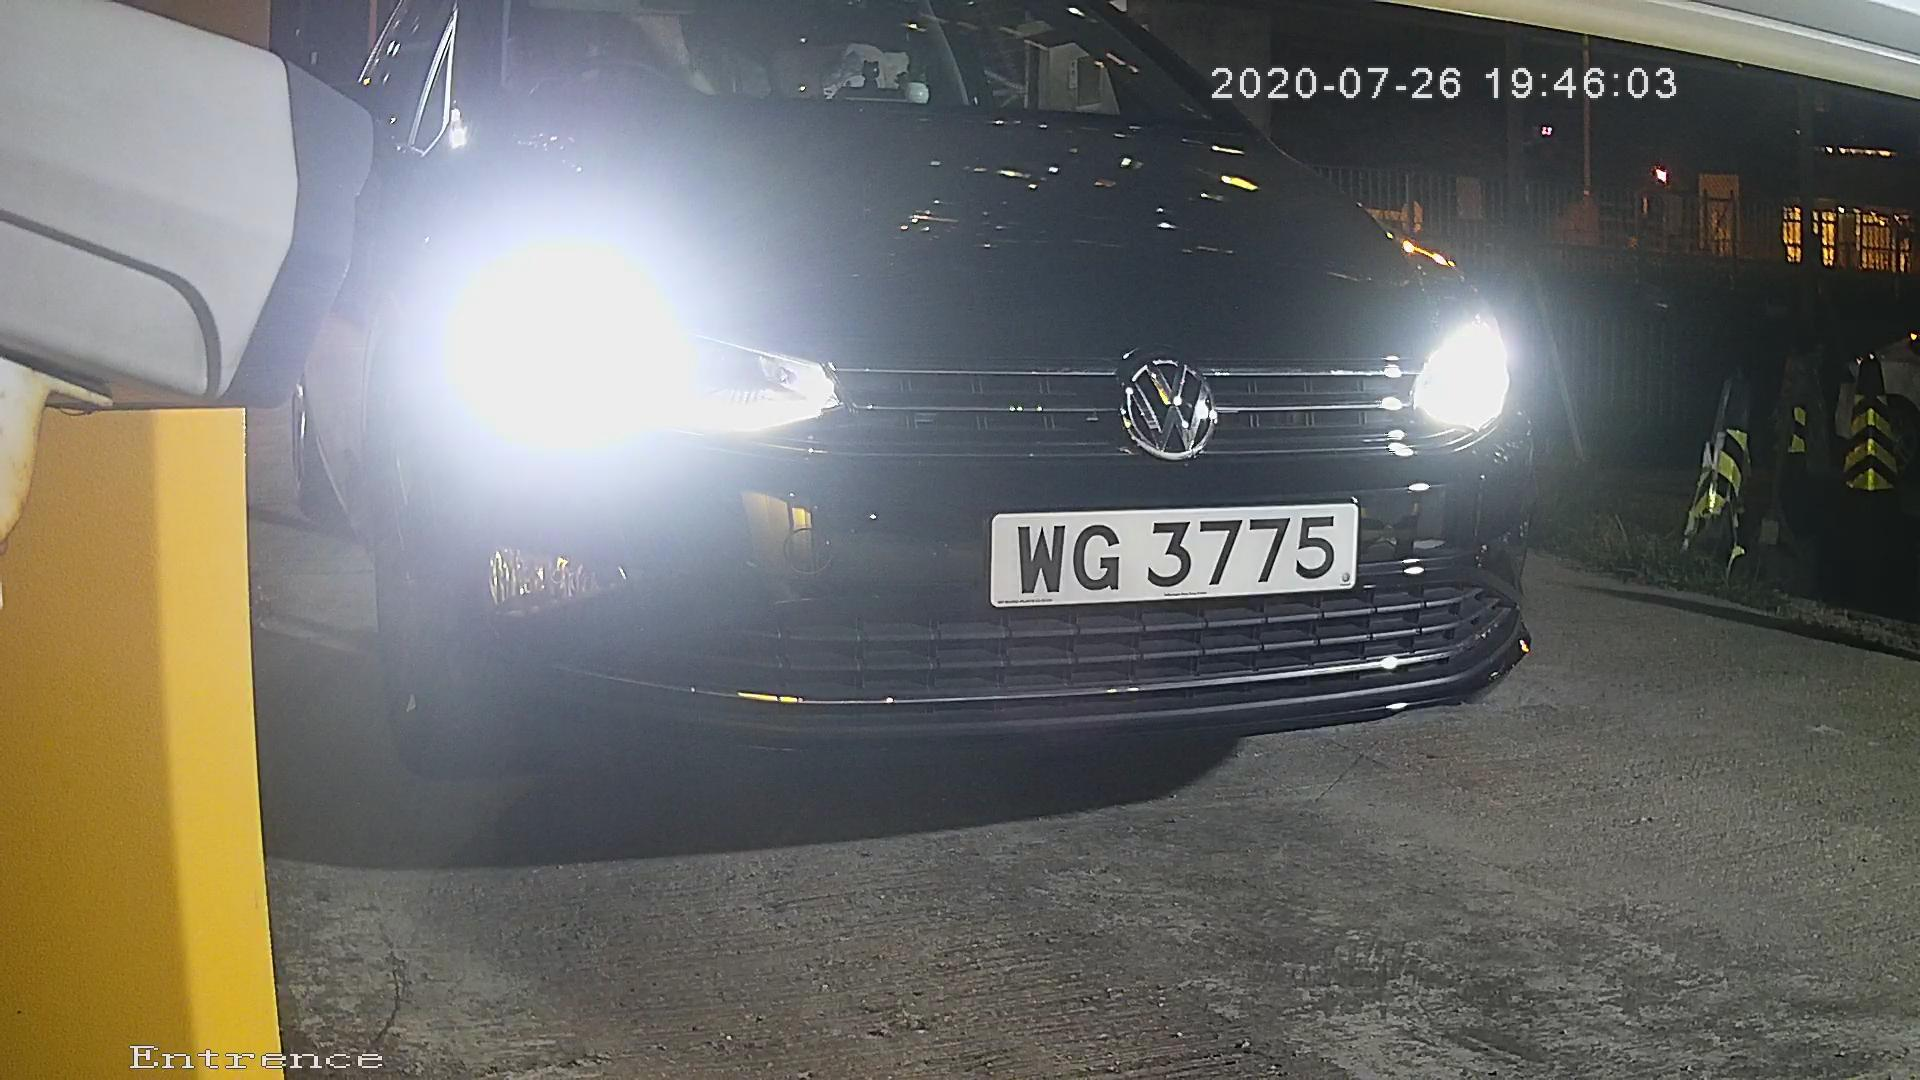Car: (129, 54, 1629, 801)
License Plate: (961, 492, 1372, 608)
